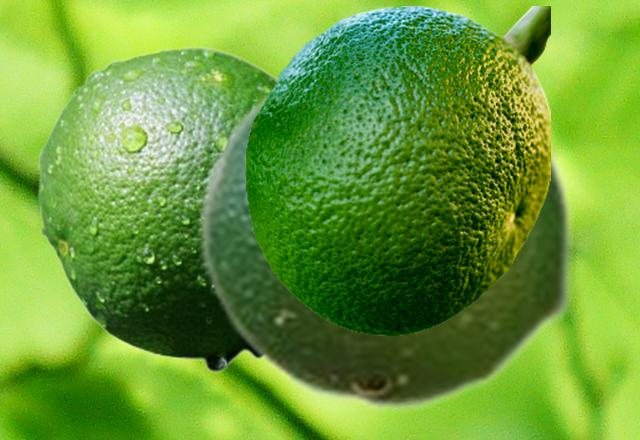dalandan: (197, 78, 575, 413), (245, 6, 549, 334), (37, 45, 277, 373)
